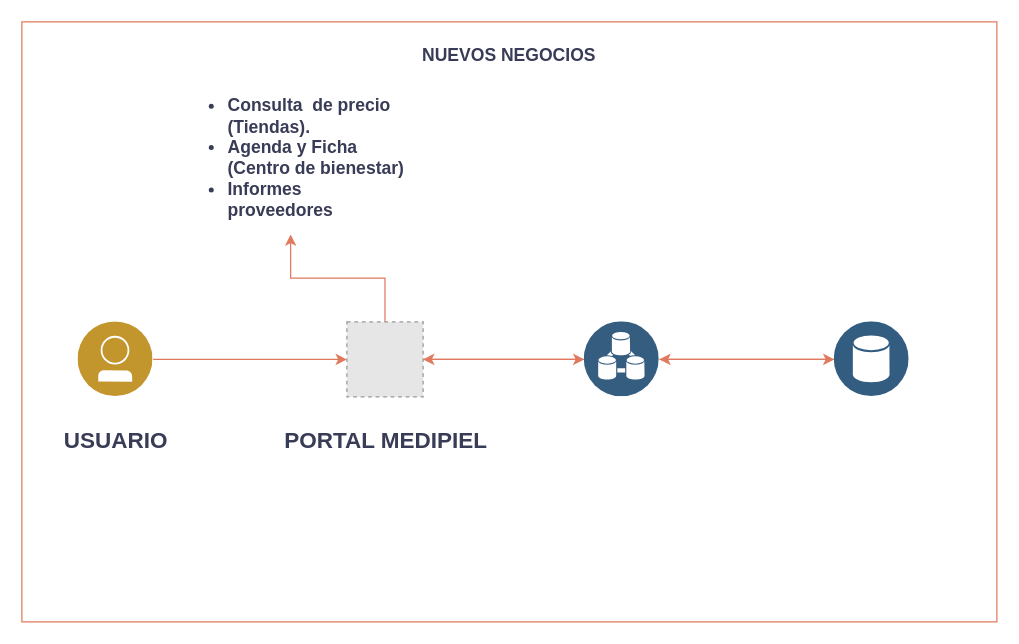
Image size: 1019x644. Some labels were removed from this diagram. Grey dashed boxes stand in for pictures. Here are the shapes that lost their labels. From the top down, the centre of each, then its label:
At (621,358): "INTEGRACION".
At (871,358): "BD SIESA".
